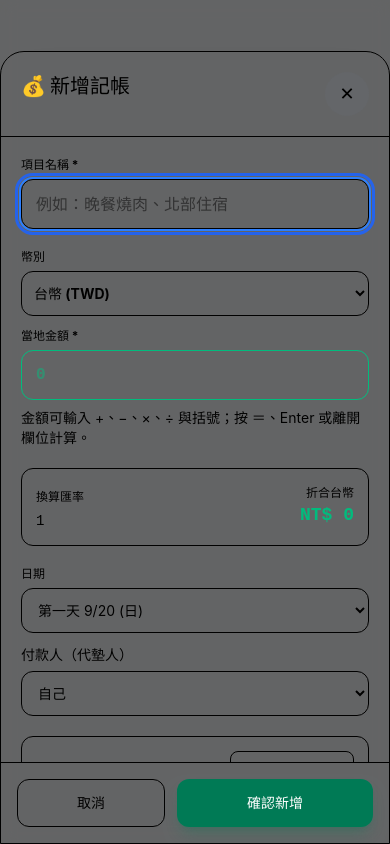
it: ExpenseModal Phase 2B 表單流程 › 幣別切換時換算尚未儲存的分帳，而不是靜默改變金額單位
The width and height of the screenshot is (390, 844).
Type "420" into the field with test id "expense-local-cost-input" at (195, 375), box [21, 350, 369, 400]
(page scrolled)
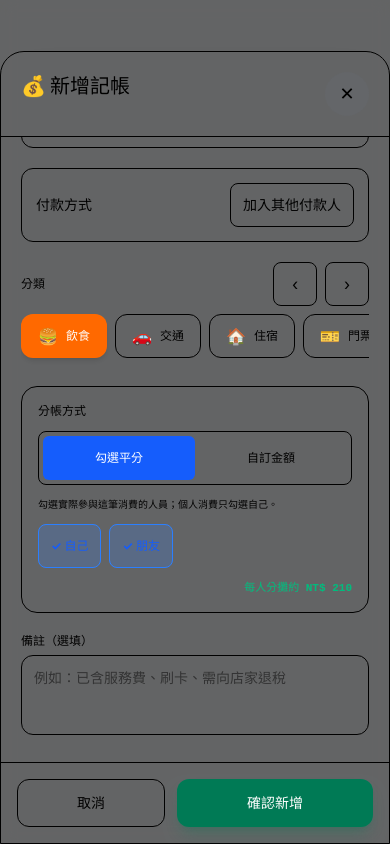
Click the button with test id "expense-split-custom-button" at (271, 458), box [195, 436, 347, 480]
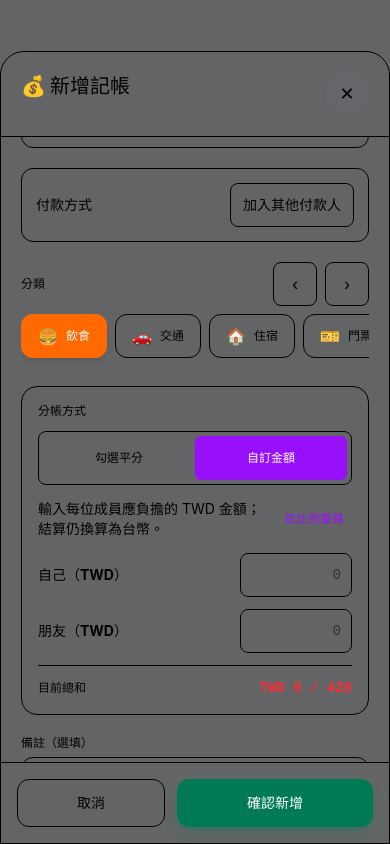
Type "300" into the field named "自己 自訂分帳金額（TWD）" at (296, 575), box [240, 553, 352, 597]
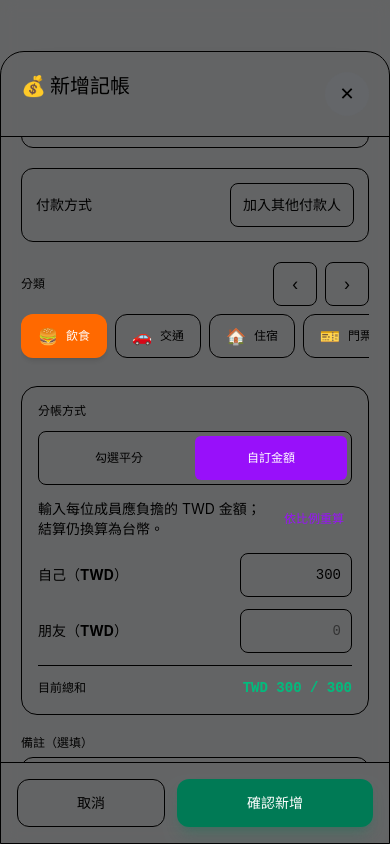
Type "120" into the field named "朋友 自訂分帳金額（TWD）" at (296, 631), box [240, 609, 352, 653]
(page scrolled)
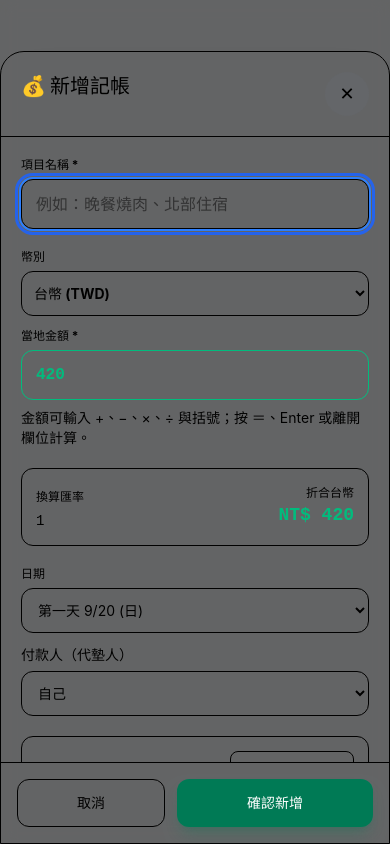
Select "日幣 (JPY)" in the dropdown with test id "expense-currency-select" at (195, 293), box [21, 271, 369, 316]
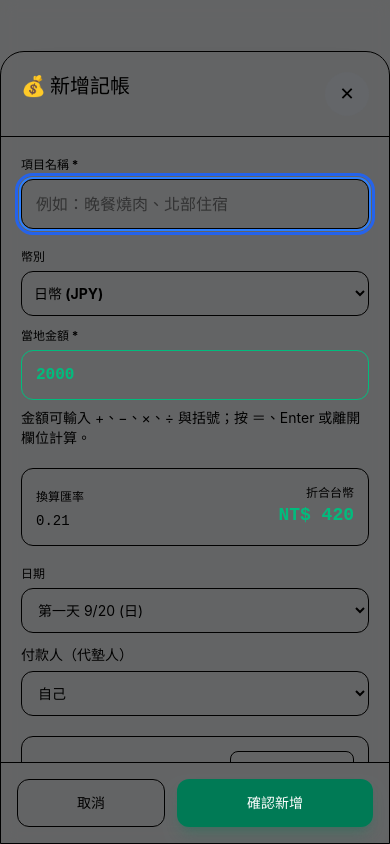
Check: the text with test id "expense-twd-total" shows "420", box [322, 505, 354, 525]
Check: the field with test id "expense-local-cost-input" holds "2000", box [21, 350, 369, 400]
